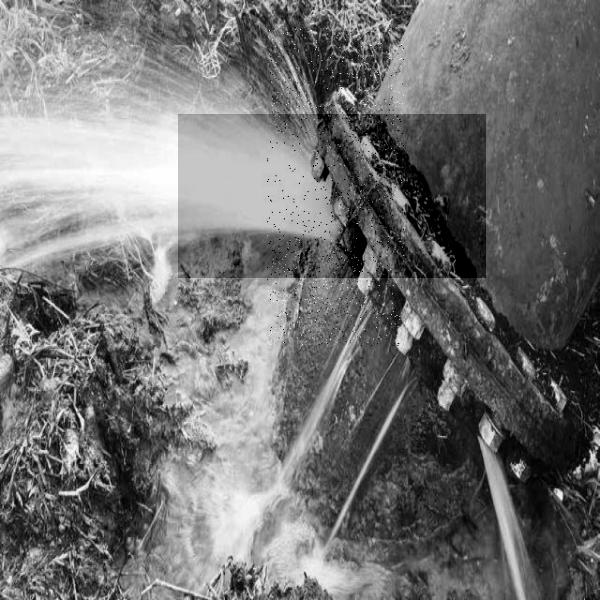water: (178, 114, 486, 278)
